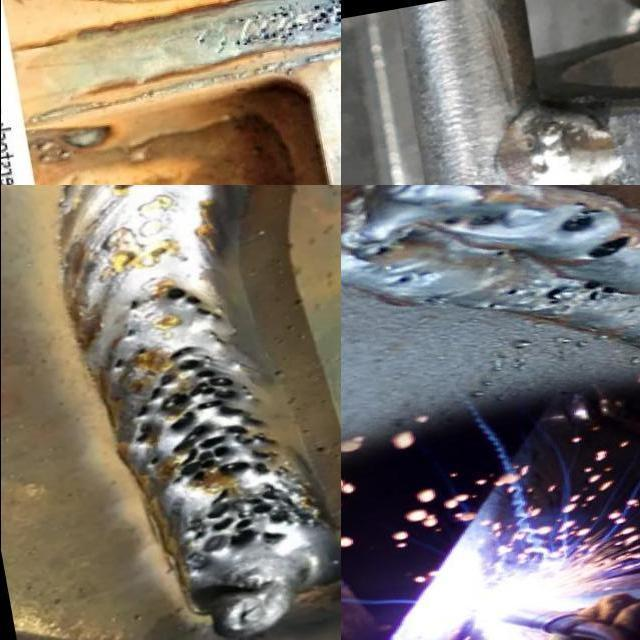defect: (125, 341, 338, 570), (191, 1, 304, 53), (158, 281, 229, 329), (556, 199, 607, 235), (581, 230, 640, 261), (306, 0, 340, 38), (360, 237, 407, 259), (581, 279, 621, 301), (539, 284, 570, 305), (465, 214, 501, 228), (122, 297, 148, 312), (393, 273, 416, 287), (421, 293, 446, 304), (111, 356, 127, 369), (439, 216, 461, 225), (121, 327, 139, 337), (134, 347, 149, 356), (505, 287, 521, 295), (491, 249, 506, 257), (625, 304, 640, 312), (487, 303, 498, 307)
